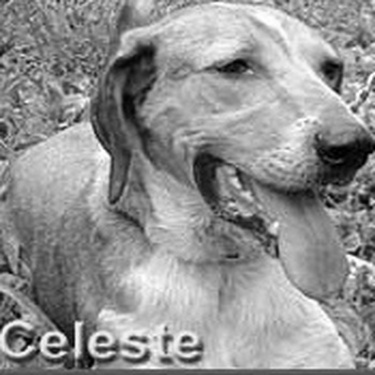dog: (1, 2, 370, 367)
